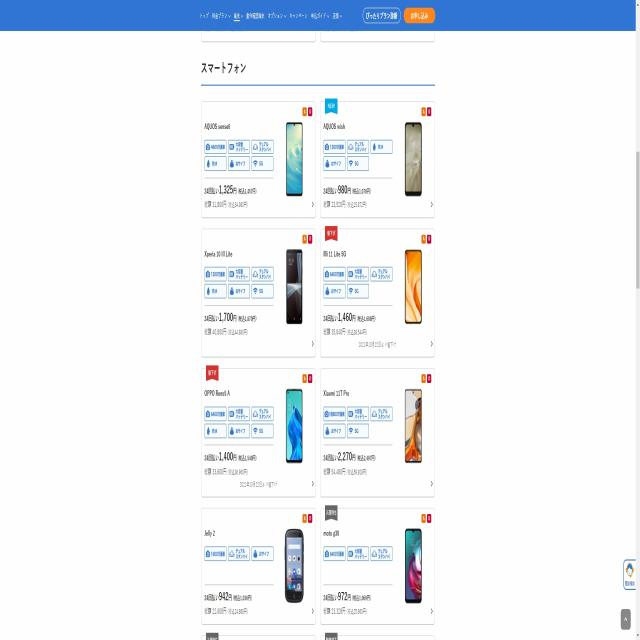tab-bar: (199, 5, 344, 25)
